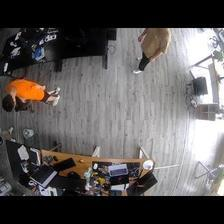normal: (1, 77, 60, 112), (133, 28, 171, 75)
